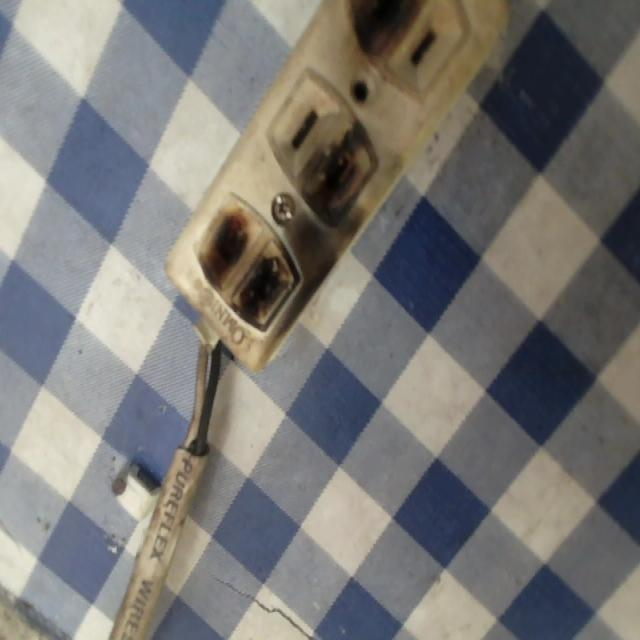-: (177, 190, 305, 342), (307, 115, 383, 245)
